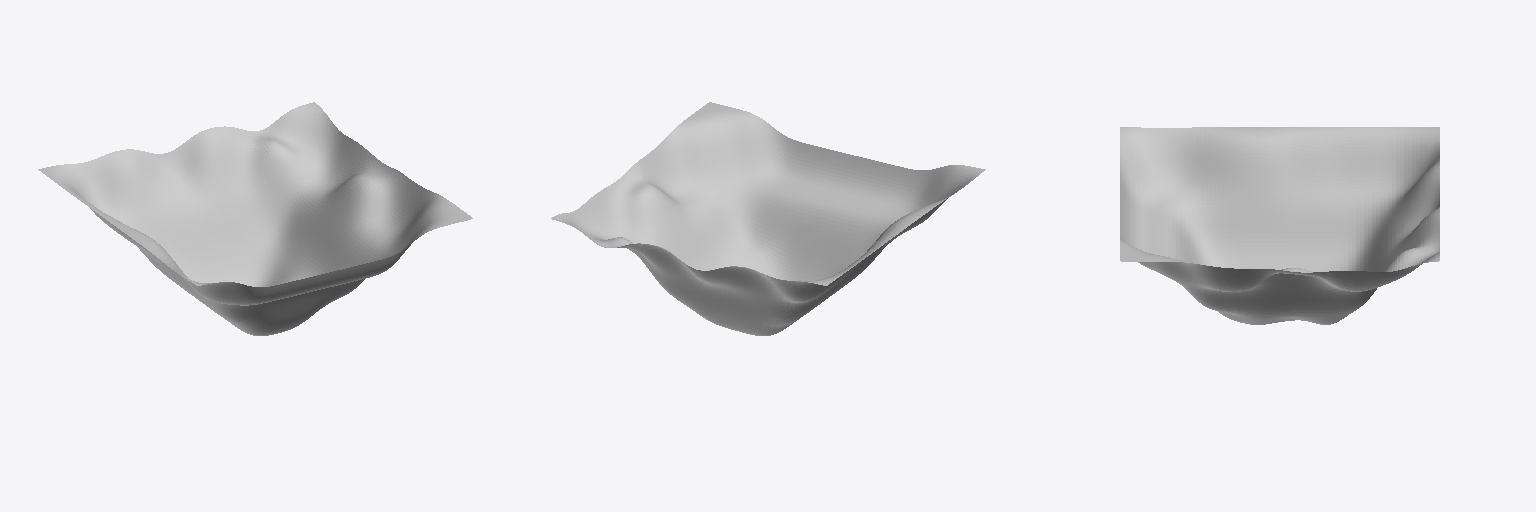
Rendered from map04.obj.
The picture shows the model from 3 angles: view 1: azimuth 30°, elevation 25°; view 2: azimuth 150°, elevation 25°; view 3: azimuth 270°, elevation 25°; orthographic projection.
Parts seen in each view (by area): view 1: Cube.001; view 2: Cube.001; view 3: Cube.001.
Part boxes in pixels (bbox=[...]): Cube.001: bbox=[38, 102, 472, 335]; Cube.001: bbox=[551, 102, 985, 335]; Cube.001: bbox=[1120, 127, 1439, 324].
Bounding box in the file's own units: 1.87 × 0.7993 × 1.87.